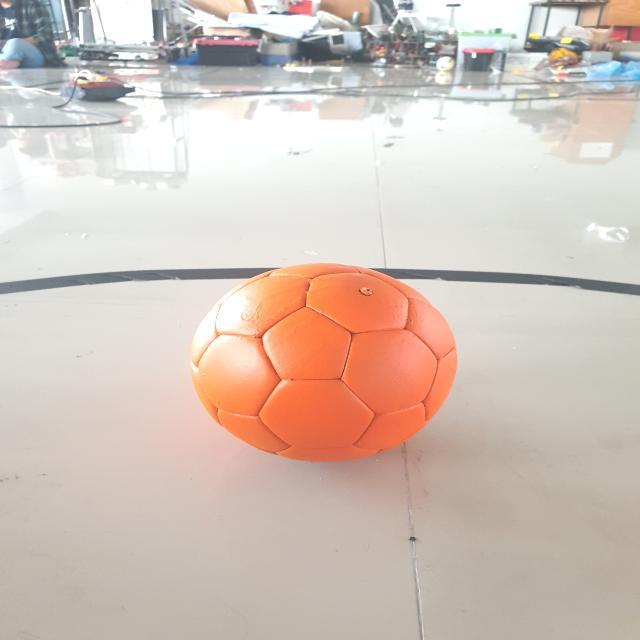bola: (177, 252, 468, 470)
